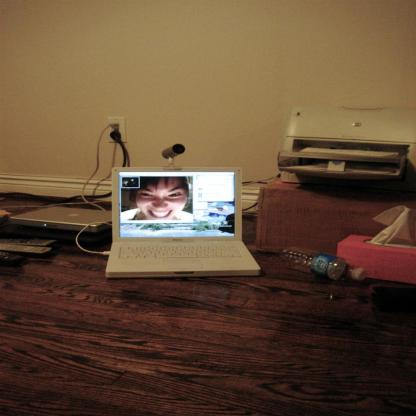board: (95, 161, 268, 278), (5, 204, 115, 233), (279, 247, 367, 282)
